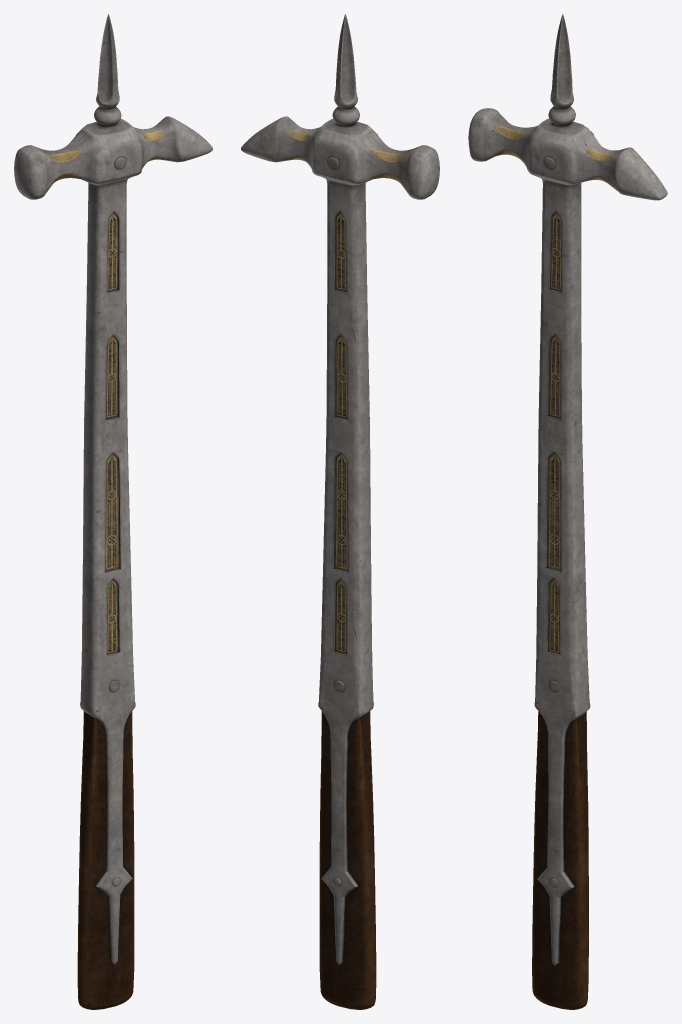
The model's file is ornate_war_hammer.glb.
3 renders of one model, left to right at view 1: azimuth 30°, elevation 25°; view 2: azimuth 150°, elevation 25°; view 3: azimuth 330°, elevation 25°, orthographic.
Parts seen in each view (by area): view 1: ornate_war_hammer; view 2: ornate_war_hammer; view 3: ornate_war_hammer.
Part boxes in pixels (x1=…): ornate_war_hammer: x1=14, y1=14, x2=212, y2=1009; ornate_war_hammer: x1=241, y1=14, x2=439, y2=1009; ornate_war_hammer: x1=468, y1=14, x2=667, y2=1009.
Size of the model in its own units: 0.1441 by 0.7112 by 0.0348.
1 material, 1 textured.
